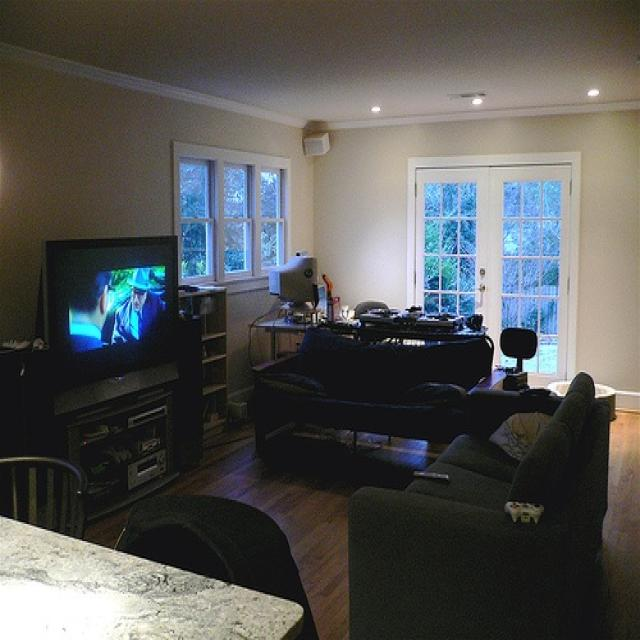chair: (118, 496, 319, 639), (1, 458, 85, 538), (502, 330, 536, 370)
diningtable: (1, 516, 304, 639)
sofa: (351, 372, 612, 638), (253, 327, 493, 440)
tvmonitor: (45, 240, 182, 414), (270, 255, 320, 324)
